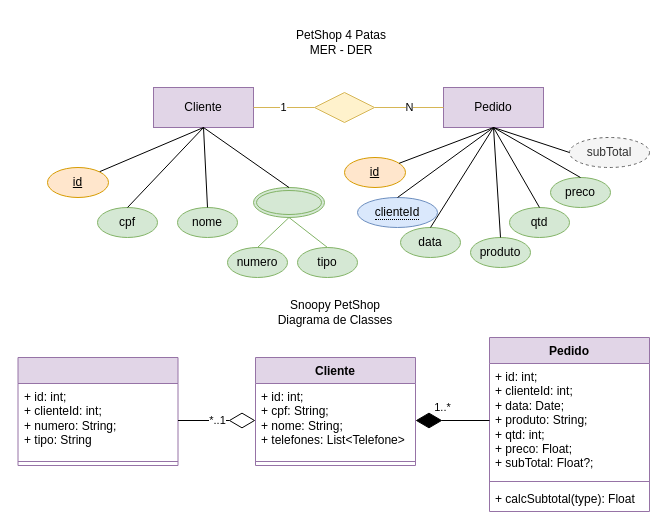
Image size: 667x531. Some labels were removed from this diagram. The box of each missing label's shape, as (x1, y1, x2, y2) in pixels:
faz: (314, 92, 374, 122)
Telefone: (17, 356, 178, 466)
telefones: (252, 186, 324, 218)
